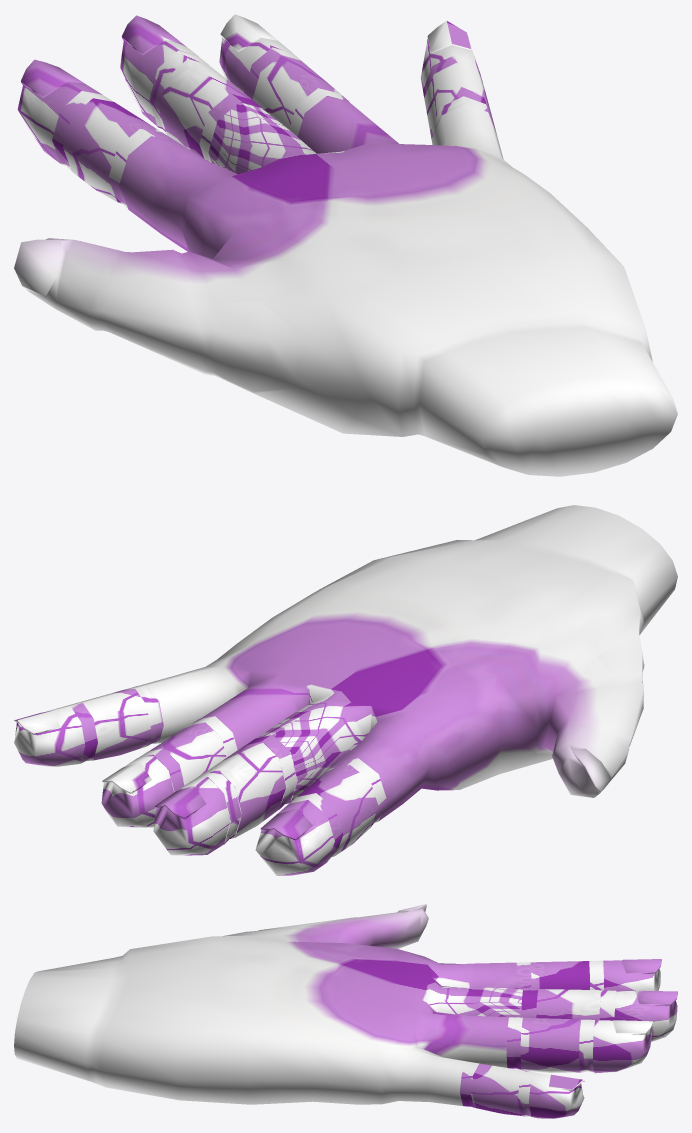
Rendered from Hand.fbx.
The picture shows the model from 3 angles, top to bottom: view 1: azimuth 30°, elevation 25°; view 2: azimuth 150°, elevation 25°; view 3: azimuth 270°, elevation 25°; orthographic projection. The views are drawn at different scales.
Visible parts, largest first — view 1: Hand; view 2: Hand; view 3: Hand.
Boxes of the visible parts, bbox=[...] form: Hand: bbox=[14, 14, 677, 476]; Hand: bbox=[14, 505, 677, 875]; Hand: bbox=[14, 904, 677, 1118].
Size of the model in its own units: 271 by 65.54 by 408.
